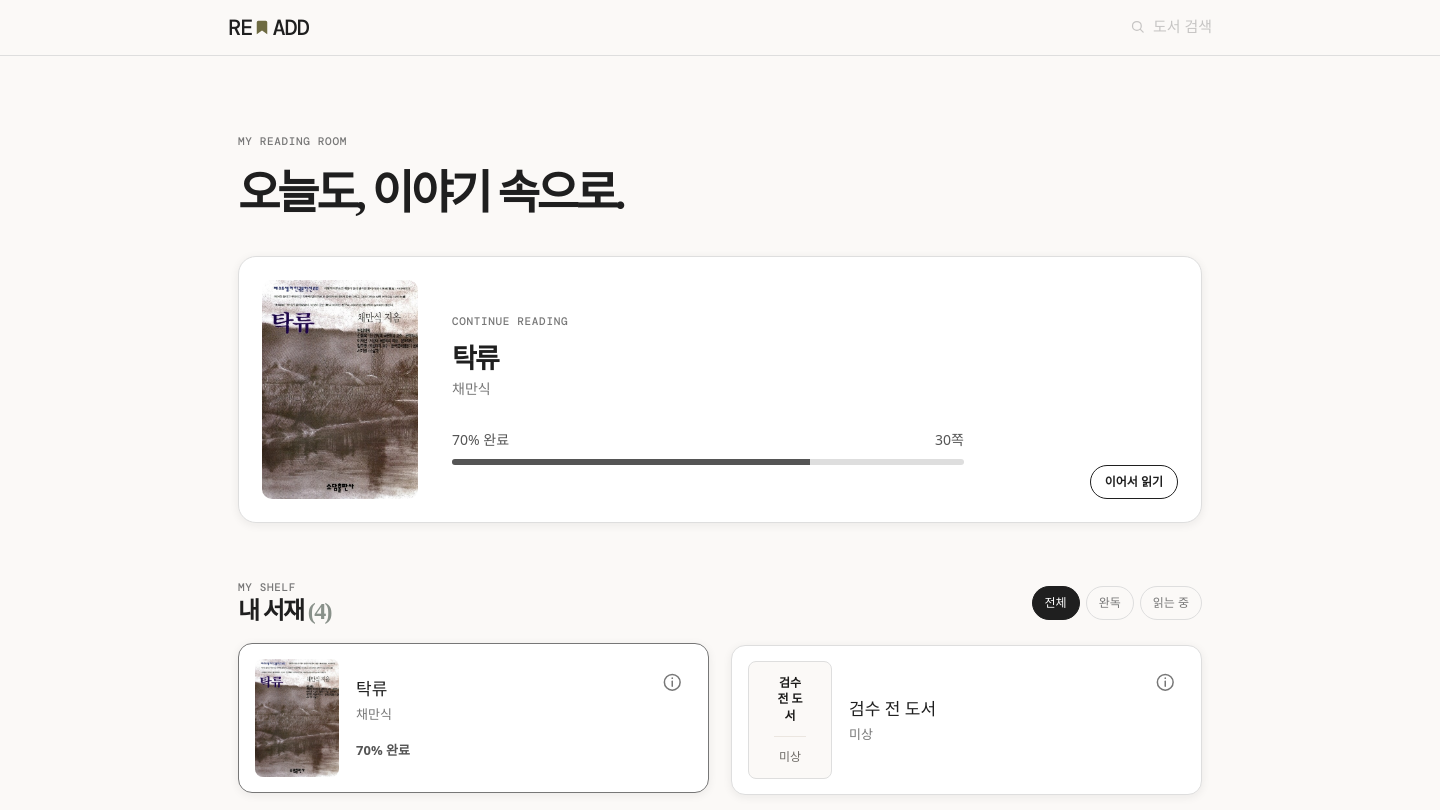
브리핑 스트리밍 폴백 (mock 기준) › 저장 리캡이 기준점과 맞으면 그대로 보여주고 폴백을 부르지 않는다
The image size is (1440, 810).
Expected: the heading "탁류" below "CONTINUE READING" is shown, x1=452 y1=344 x2=498 y2=374
Click the button "이어서 읽기" at (1134, 482), box x1=1090 y1=464 x2=1178 y2=498
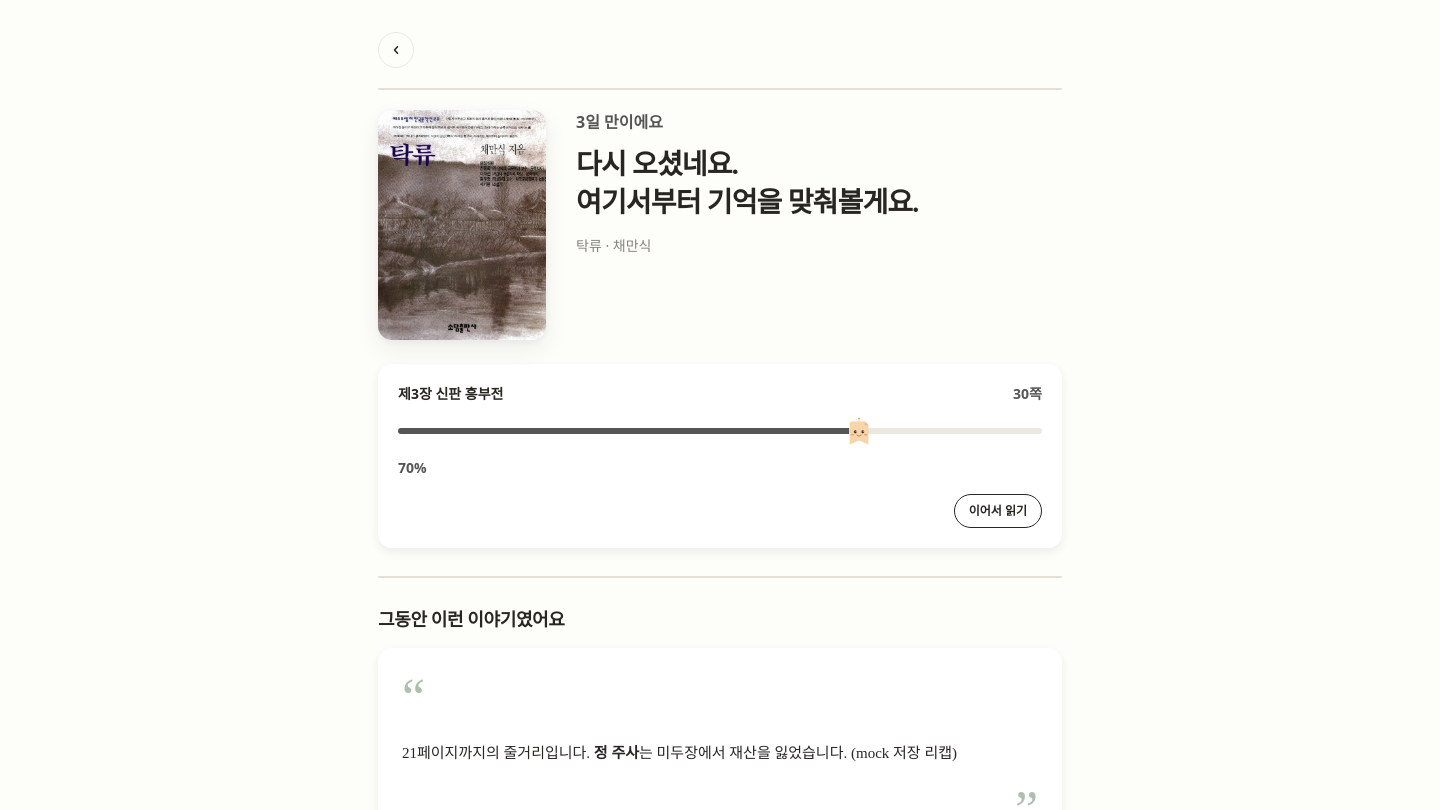
Now the text "21페이지까지의 줄거리입니다. 정 주사는 미두장에서 재산을 잃었습니다. (mock 저장 리캡)" is shown, box x1=402 y1=745 x2=957 y2=761
